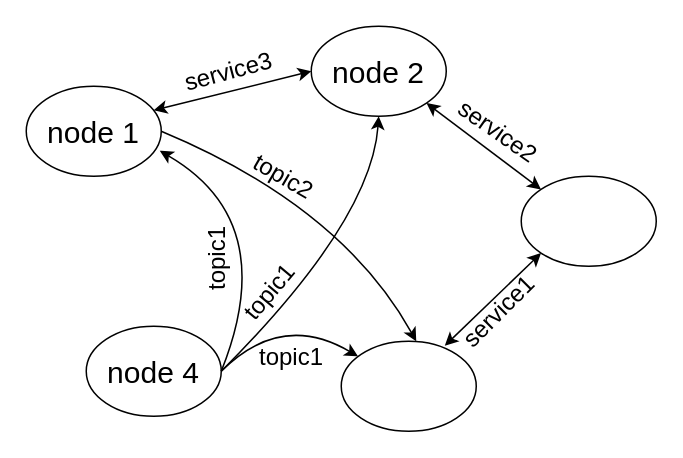
The diagram is 683 pixels wide and 458 high, and some of its shapes have lost their labels. The shapes that lost their labels are listed below. From the top down, each one's centre as x and y in pixels, then its label:
At (x=588, y=220): "node 3".
At (x=408, y=385): "node 5".
